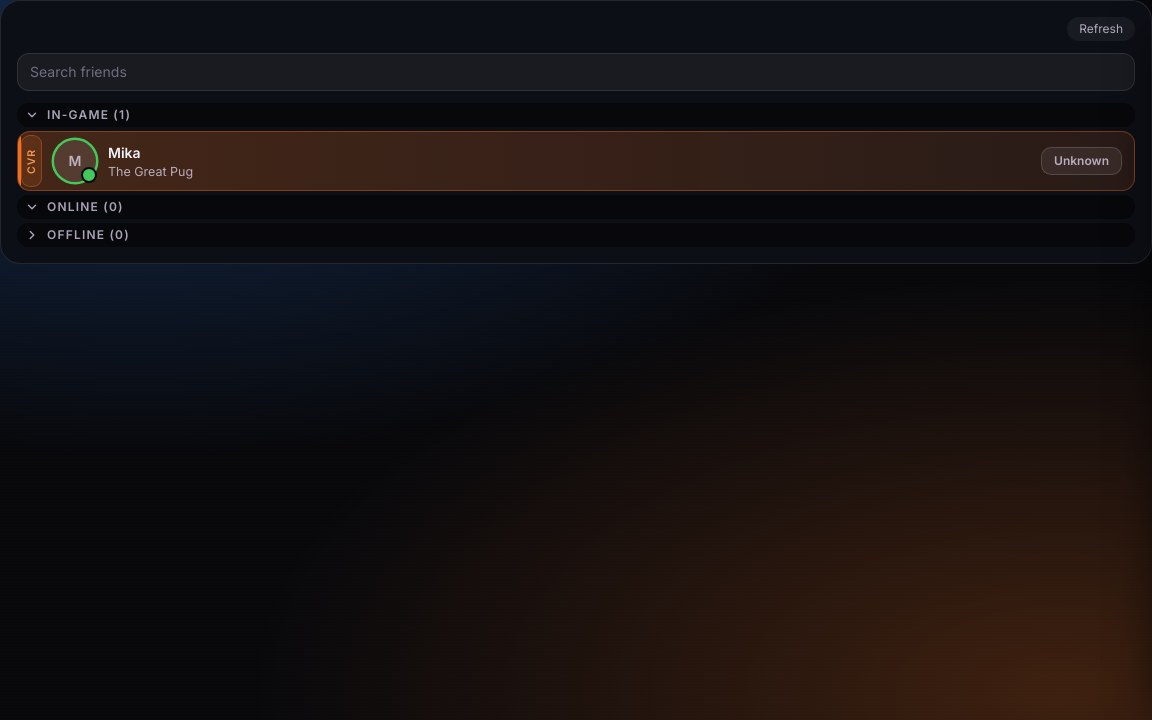
Scenario: FriendDrawer (VRX-69) › opennessUnknown renders neutral Unknown pills instead of the degraded typed label (VRX-244)
Click the button "M" at (75, 161), box x1=54 y1=140 x2=96 y2=182
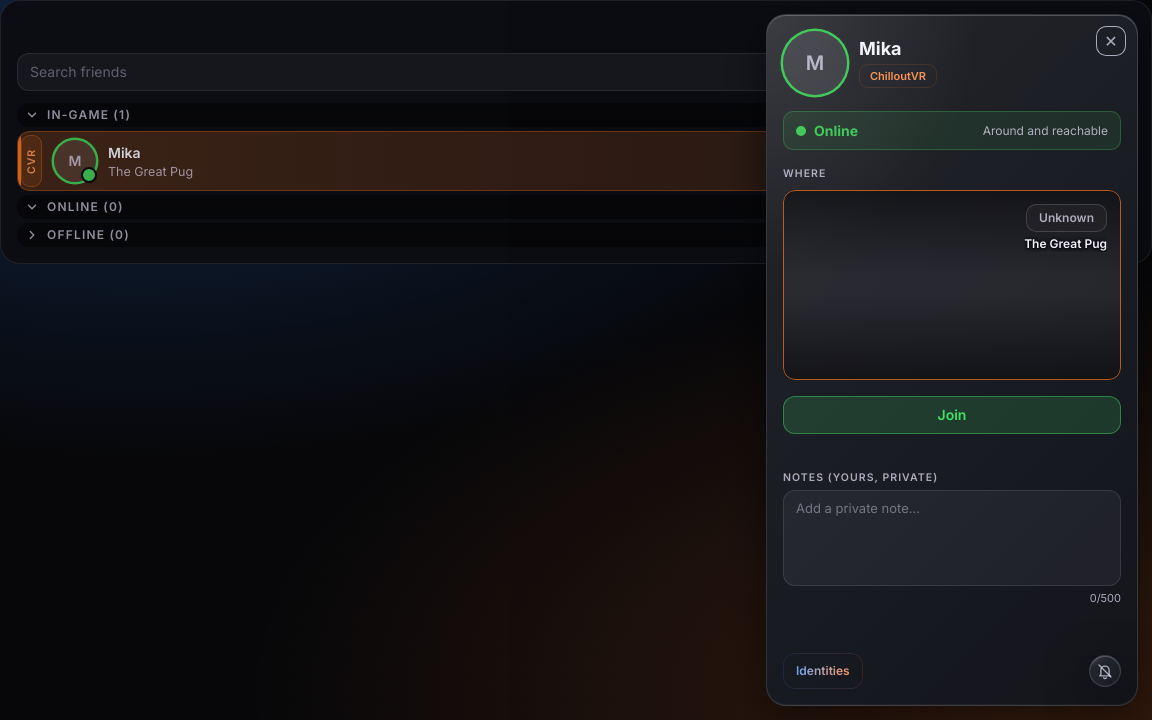
expect the text "Unknown" is shown: met, box x1=1026 y1=204 x2=1107 y2=232
